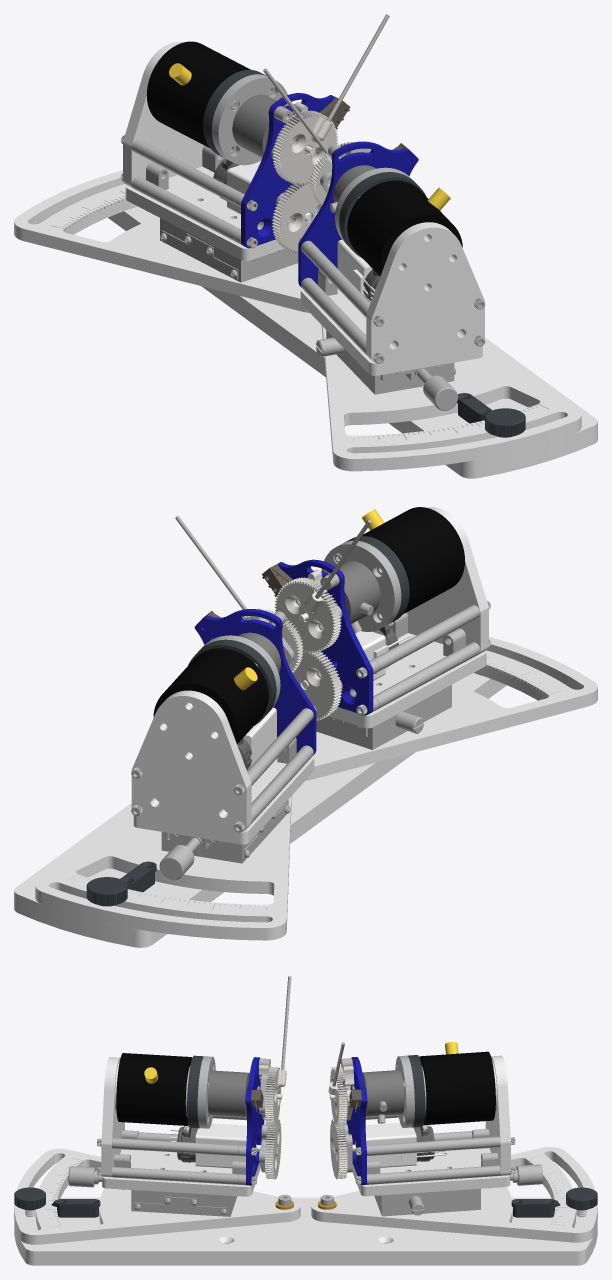
The model's file is mouse-joysticks.glb.
3 renders of one model, top to bottom at view 1: azimuth 30°, elevation 25°; view 2: azimuth 150°, elevation 25°; view 3: azimuth 270°, elevation 25°, orthographic. The views are drawn at different scales.
Visible parts, largest first — view 1: Solid1 (×26), Solid2 (×4), BrakeHousing; view 2: Solid1 (×26), Solid2 (×4), BrakeHousing; view 3: Solid1 (×29), Solid2 (×4), BrakeHousing (×2).
Boxes of the visible parts, x1,y1,x2,y2 form: Solid1 (×26): [14, 41, 597, 478]; Solid2 (×4): [160, 161, 455, 394]; BrakeHousing: [232, 94, 286, 157]; Solid1 (×26): [14, 507, 597, 947]; Solid2 (×4): [161, 631, 451, 863]; BrakeHousing: [326, 561, 380, 633]; Solid1 (×29): [14, 1042, 597, 1265]; Solid2 (×4): [131, 1123, 480, 1216]; BrakeHousing (×2): [208, 1070, 404, 1123].
Size of the model in its own units: 0.1344 by 0.1493 by 0.3495.
21 materials, 1 textured.
